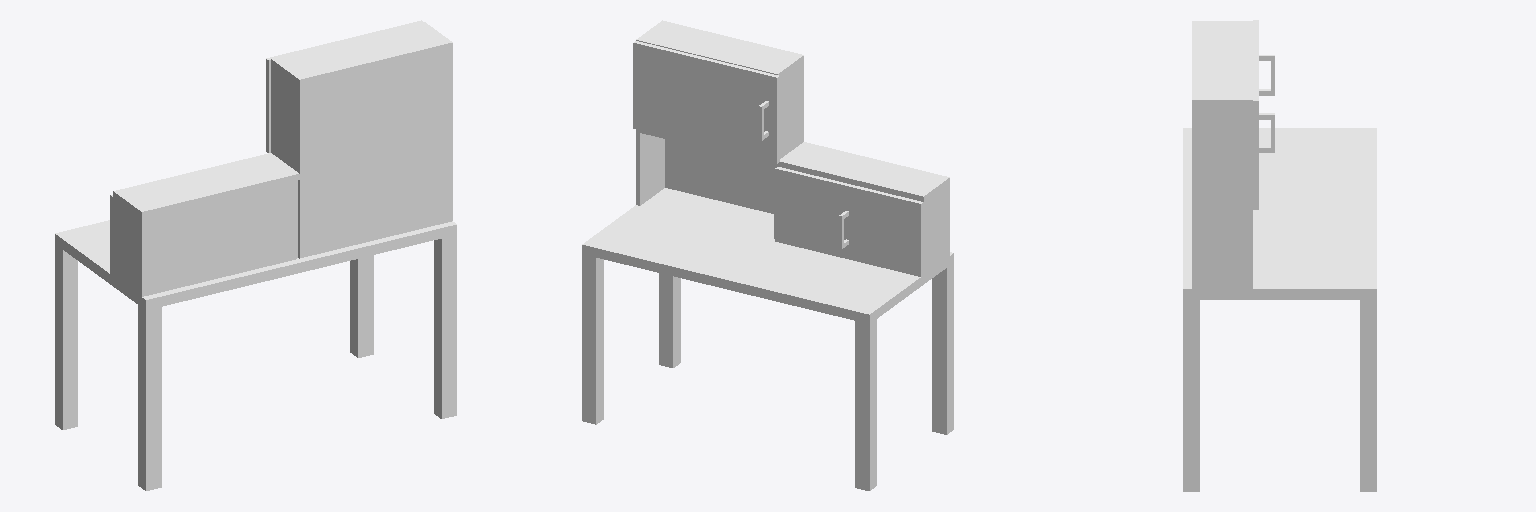
URDF robot description (table):
<?xml version="1.0" ?>
<robot name="table">
<!-- The table -->
 <link name="baseLink">
   <contact>
     <lateral_friction value="0.5"/>
   </contact>
   <inertial>
     <origin rpy="0 0 0" xyz="0.425016 0.151115 0.615396"/>
      <mass value="0.0"/>
      <inertia ixx="0.003734" ixy="0.000094" ixz="-0.000492" iyy="0.006571" iyz="0.000494" izz="0.004455"/>
   </inertial>
   <visual>
     <origin rpy="0 0 0" xyz="0 0.17 0"/>
     <geometry>
       <mesh filename="playtable.obj" scale="0.9 0.8 1.0"/>
     </geometry>
      <material name="white">
       <color rgba="1 1 1 1"/>
     </material>
   </visual>
   <collision>
     <origin rpy="0 0 0" xyz="0 0.17 0"/>
     <geometry>
       <mesh filename="playtable_vhacd2.obj" scale="0.9 0.8 1.0"/>
     </geometry>
   </collision>
 </link>

<!-- The top left shelf -->
  <link name="top_left_table">
   <contact>
     <lateral_friction value="0.5"/>
   </contact>
   <inertial>
     <origin rpy="0 0 0" xyz="1.055672 0.164149 1.203366"/>
      <mass value="1.0"/>
      <inertia ixx="0.000758" ixy="-0.000002" ixz="0.000002" iyy="0.001665" iyz="-0.000003" izz="0.001678"/>
   </inertial>
   <visual>
     <origin rpy="0 0 0" xyz="0 0.2 -0.2"/>
     <geometry>
       <mesh filename="top_left_table.obj" scale="0.9 0.5 1.2"/>
     </geometry>
      <material name="white">
       <color rgba="1 1 1 1"/>
     </material>
   </visual>
   <collision>
     <origin rpy="0 0 0" xyz="0 0.2 -0.2"/>
     <geometry>
       <mesh filename="top_left_table_vhacd2.obj" scale="0.9 0.5 1.2"/>
     </geometry>
   </collision>
 </link>


<!-- Top left door-->
  <link name="leftTopDoor">
   <contact>
     <lateral_friction value="0.5"/>
   </contact>
   <inertial>
     <origin rpy="0 0 0" xyz="0.599518 0.211815 0.960029"/>
      <mass value="1.0"/>
      <inertia ixx="0.000006" ixy="0.000000" ixz="-0.000000" iyy="0.000029" iyz="0.000000" izz="0.000024"/>
   </inertial>
   <visual>
     <origin rpy="0 0 0" xyz="-1.25 -0.4 -0.18"/>
     <geometry>
       <mesh filename="top_left_door.obj" scale="0.9 1.0 1.2"/>
     </geometry>
      <material name="white">
       <color rgba="1 1 1 1"/>
     </material>
   </visual>
   <collision>
     <origin rpy="0 0 0" xyz="-1.25 -0.4 -0.18"/>
     <geometry>
       <mesh filename="top_left_door_vhacd2.obj" scale="0.9 1.0 1.2"/>
     </geometry>
   </collision>
 </link>

<!-- Revolute link between the top left door and the top left shelf -->
   <joint name="top_left_table" type="revolute">
    <origin rpy="0 0 0" xyz="1.25 0.4 0"/>
    <parent link="baseLink"/>
    <child link="leftTopDoor"/>
    <dynamics damping="1.0" friction="0.5"/>
    <limit effort="500" lower="0.0" upper="1.7453292519943" velocity="3.0"/>
    <axis xyz="0 0 -1"/>
  </joint>

<!-- bottom right shelf -->
   <link name="bottom_right_table">
   <contact>
     <lateral_friction value="0.5"/>
   </contact>
   <inertial>
     <origin rpy="0 0 0" xyz="0.355063 0.161921 0.899693"/>
      <mass value="1.0"/>
      <inertia ixx="0.000715" ixy="-0.000003" ixz="0.000000" iyy="0.001669" iyz="0.000001" izz="0.001690"/>
   </inertial>
   <visual>
     <origin rpy="0 0 0" xyz="0 0.2 -0.15"/>
     <geometry>
       <mesh filename="bottom_right_table.obj" scale="0.9 0.5 1.15"/>
     </geometry>
      <material name="white">
       <color rgba="1 1 1 1"/>
     </material>
   </visual>
   <collision>
     <origin rpy="0 0 0" xyz="0 0.2 -0.15"/>
     <geometry>
       <mesh filename="bottom_right_table_vhacd2.obj" scale="0.9 0.5 1.15"/>
     </geometry>
   </collision>
 </link>

<!-- sliding door -->
  <link name="slideDoor">
   <contact>
     <lateral_friction value="0.5"/>
   </contact>
   <inertial>
     <origin rpy="0 0 0" xyz="0.205081 0.211543 0.749504"/>
      <mass value="1.0"/>
      <inertia ixx="0.000008" ixy="-0.000000" ixz="0.000000" iyy="0.000036" iyz="0.000000" izz="0.000028"/>
   </inertial>
   <visual>
     <origin rpy="0 0 0" xyz="0 0 -0.15"/>
     <geometry>
       <mesh filename="sliding_door.obj" scale="0.9 1.0 1.15"/>
     </geometry>
      <material name="white">
       <color rgba="1 1 1 1"/>
     </material>
   </visual>
   <collision>
     <origin rpy="0 0 0" xyz="0 0 -0.15"/>
     <geometry>
       <mesh filename="sliding_door_vhacd2.obj" scale="0.9 1.0 1.15"/>
     </geometry>
   </collision>
 </link>

<!-- bottom left shelf-->
 <link name="bottom_left_table">
   <contact>
     <lateral_friction value="0.5"/>
   </contact>
   <inertial>
     <origin rpy="0 0 0" xyz="1.055605 0.164137 0.903363"/>
      <mass value="1.0"/>
      <inertia ixx="0.000758" ixy="-0.000002" ixz="0.000002" iyy="0.001665" iyz="-0.000003" izz="0.001678"/>
   </inertial>
   <visual>
     <origin rpy="0 0 0" xyz="0 0.2 -0.15"/>
     <geometry>
       <mesh filename="bottom_left_table.obj" scale="0.9 0.5 1.15"/>
     </geometry>
      <material name="white">
       <color rgba="1 1 1 1"/>
     </material>
   </visual>
   <collision>
     <origin rpy="0 0 0" xyz="0 0.2 -0.15"/>
     <geometry>
       <mesh filename="bottom_left_table_vhacd2.obj" scale="0.9 0.5 1.15"/>
     </geometry>
   </collision>
 </link>

<!-- joint connecting the slide door with the (bottom right) shelf-->
  <joint name="construct_2_slideDoor" type="prismatic">
    <origin rpy="0 0 0" xyz="0 0 0"/>
    <parent link="bottom_right_table"/>
    <child link="slideDoor"/>
    <dynamics damping="1.0" friction="0.5"/>
    <limit effort="500" lower="0.0" upper="0.7" velocity="3.0"/>
    <axis xyz="0.9 0 0"/>
  </joint>


<!-- ficed links to connect the shelfs with the base of the playtable-->
 <joint name="bottom_left_shelf_2_base" type="fixed">
   <origin xyz="0.0 0.0 0.0" rpy="0.0 0.0 0.0"/>
   <parent link="baseLink"/>
   <child link="bottom_left_table"/>
 </joint>

 <joint name="bottom_right_shelf_2_base" type="fixed">
   <origin xyz="0.0 0.0 0.0" rpy="0.0 0.0 0.0"/>
   <parent link="baseLink"/>
   <child link="bottom_right_table"/>
 </joint>

 <joint name="top_left_shelf_2_base" type="fixed">
   <origin xyz="0.0 0.0 0.0" rpy="0.0 0.0 0.0"/>
   <parent link="baseLink"/>
   <child link="top_left_table"/>
 </joint>
</robot>

--- Facts derived from the render (not from the file) ---
The picture shows the robot from 3 angles, left to right: view 1: azimuth 30°, elevation 25°; view 2: azimuth 150°, elevation 25°; view 3: azimuth 270°, elevation 25°; orthographic projection.
Robot: table — 6 links, 5 joints (1 revolute, 1 prismatic, 3 fixed); root link baseLink; default pose: every joint at zero.
Links seen in each view (by area): view 1: top_left_table, baseLink, bottom_right_table, bottom_left_table, leftTopDoor; view 2: baseLink, leftTopDoor, slideDoor, bottom_left_table, bottom_right_table, top_left_table; view 3: baseLink, top_left_table, bottom_left_table, leftTopDoor.
Link boxes in pixels (<box>): top_left_table: <box>271,22,452,178</box>; baseLink: <box>55,220,456,490</box>; bottom_right_table: <box>113,153,299,297</box>; bottom_left_table: <box>298,136,452,258</box>; leftTopDoor: <box>266,20,422,152</box>; baseLink: <box>582,188,953,490</box>; leftTopDoor: <box>633,41,779,163</box>; slideDoor: <box>775,167,923,282</box>; bottom_left_table: <box>636,131,777,238</box>; bottom_right_table: <box>778,142,949,277</box>; top_left_table: <box>636,20,803,165</box>; baseLink: <box>1183,128,1376,491</box>; top_left_table: <box>1192,21,1252,204</box>; bottom_left_table: <box>1192,200,1252,299</box>; leftTopDoor: <box>1253,20,1274,198</box>.
Bounding box of the posed robot: 1.26 × 0.64 × 1.43 m (x, y, z).
6 mesh visuals loaded from 6 distinct referenced files (6 OBJ).